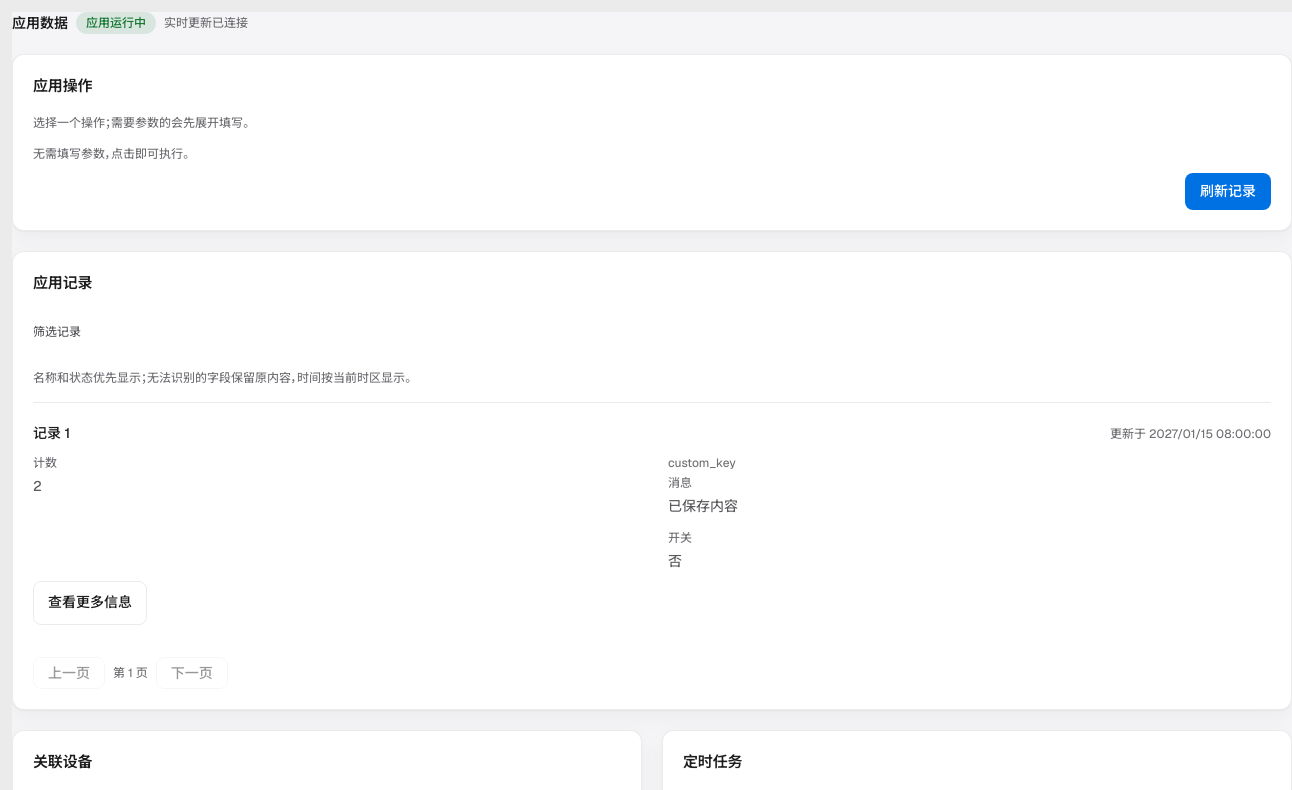
参数与不可信执行结果 › 空或非 JSON 结果不伪造结构：<svg onload="alert(1)">raw response</svg>
Click the button with aria-label "执行「刷新记录」" at (1228, 191), box [1185, 172, 1271, 210]
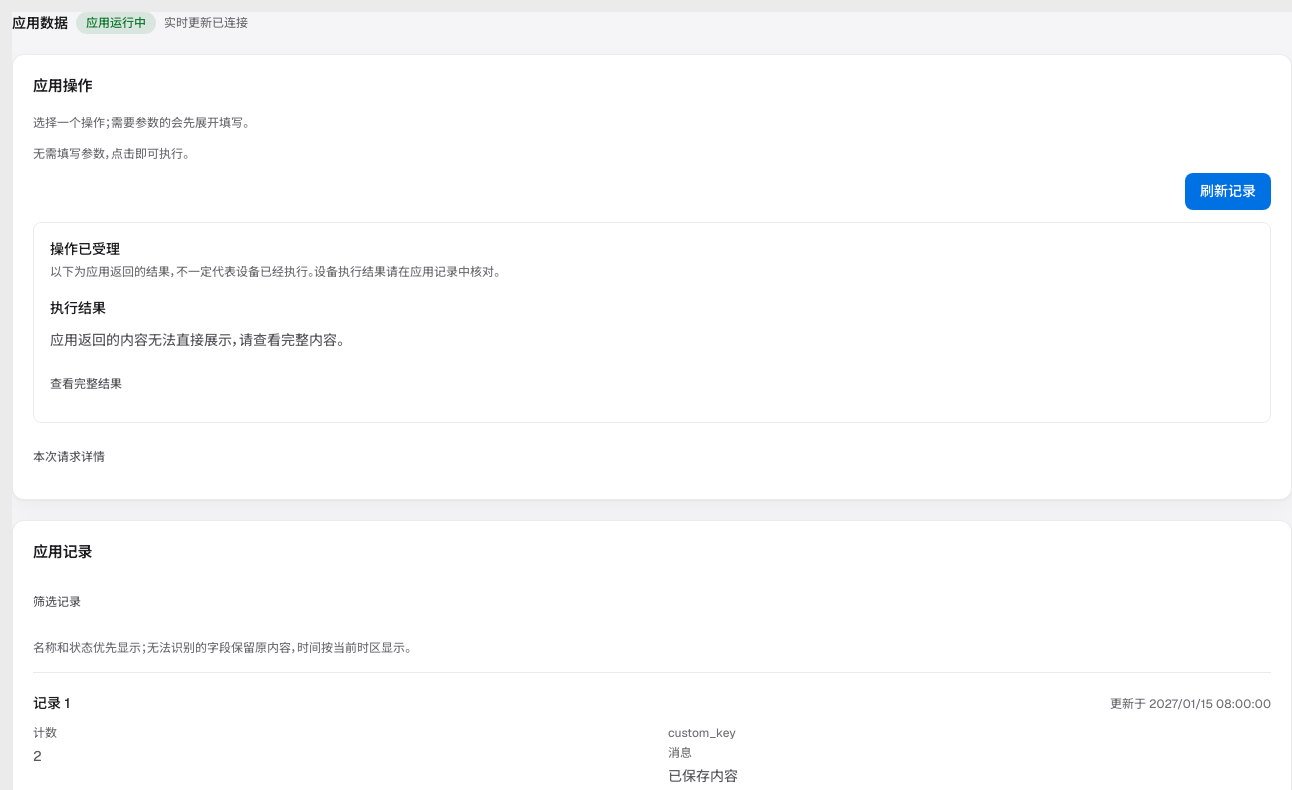
Expected: the text "操作已受理" is shown, [50, 240, 120, 258]
Expected: the text "应用返回的内容无法直接展示，请查看完整内容。" is shown, [50, 331, 344, 349]
Click the heading "查看完整结果" at (86, 384), box [50, 376, 122, 392]
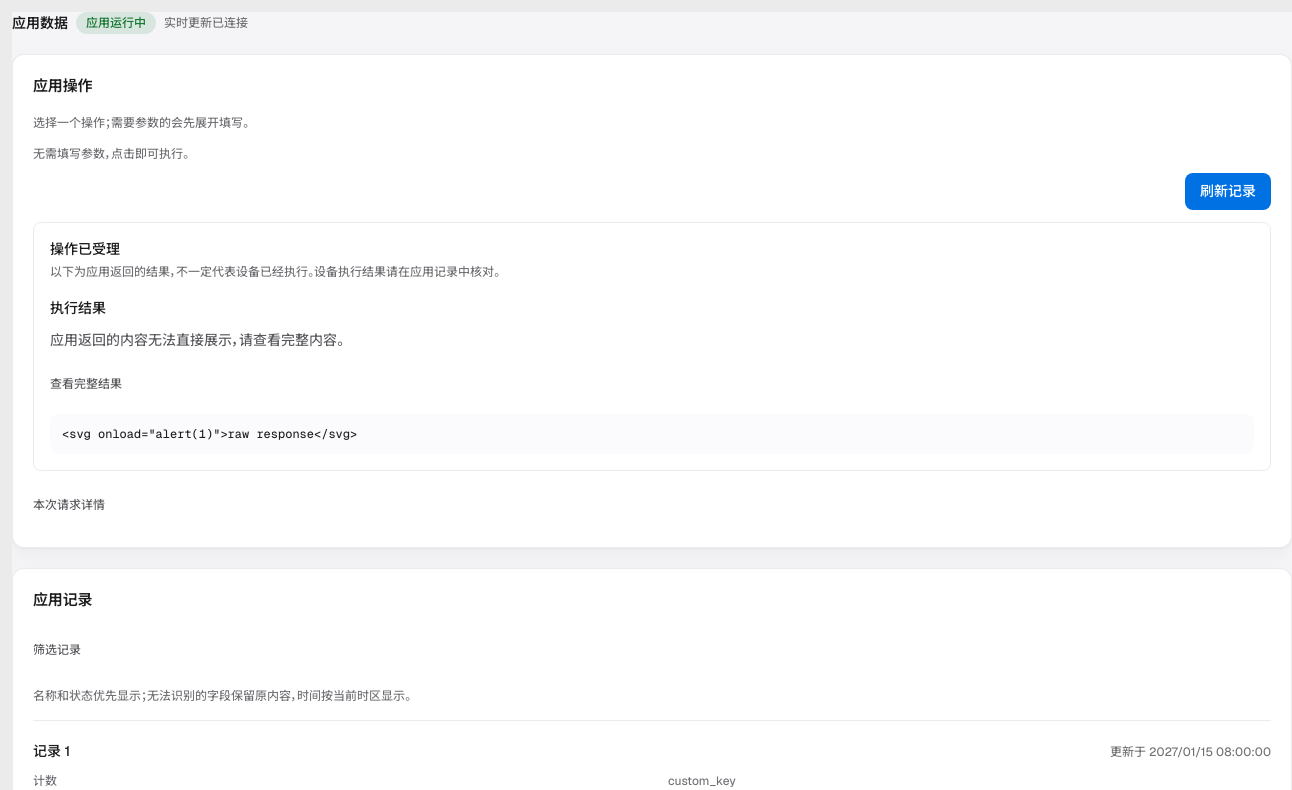
Expected: the text named "执行结果原文" reads "<svg onload=\"alert(1)\">raw response</svg>", [62, 426, 357, 442]
